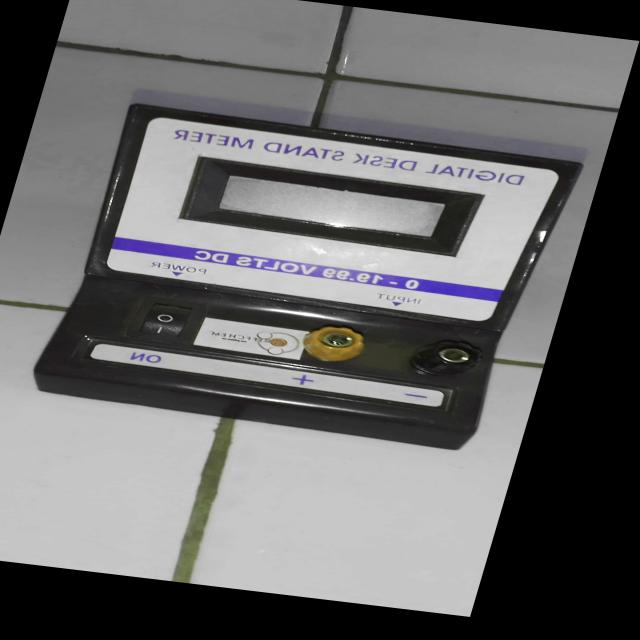Digital Voltmeter 0-20V: (8, 106, 601, 463)
